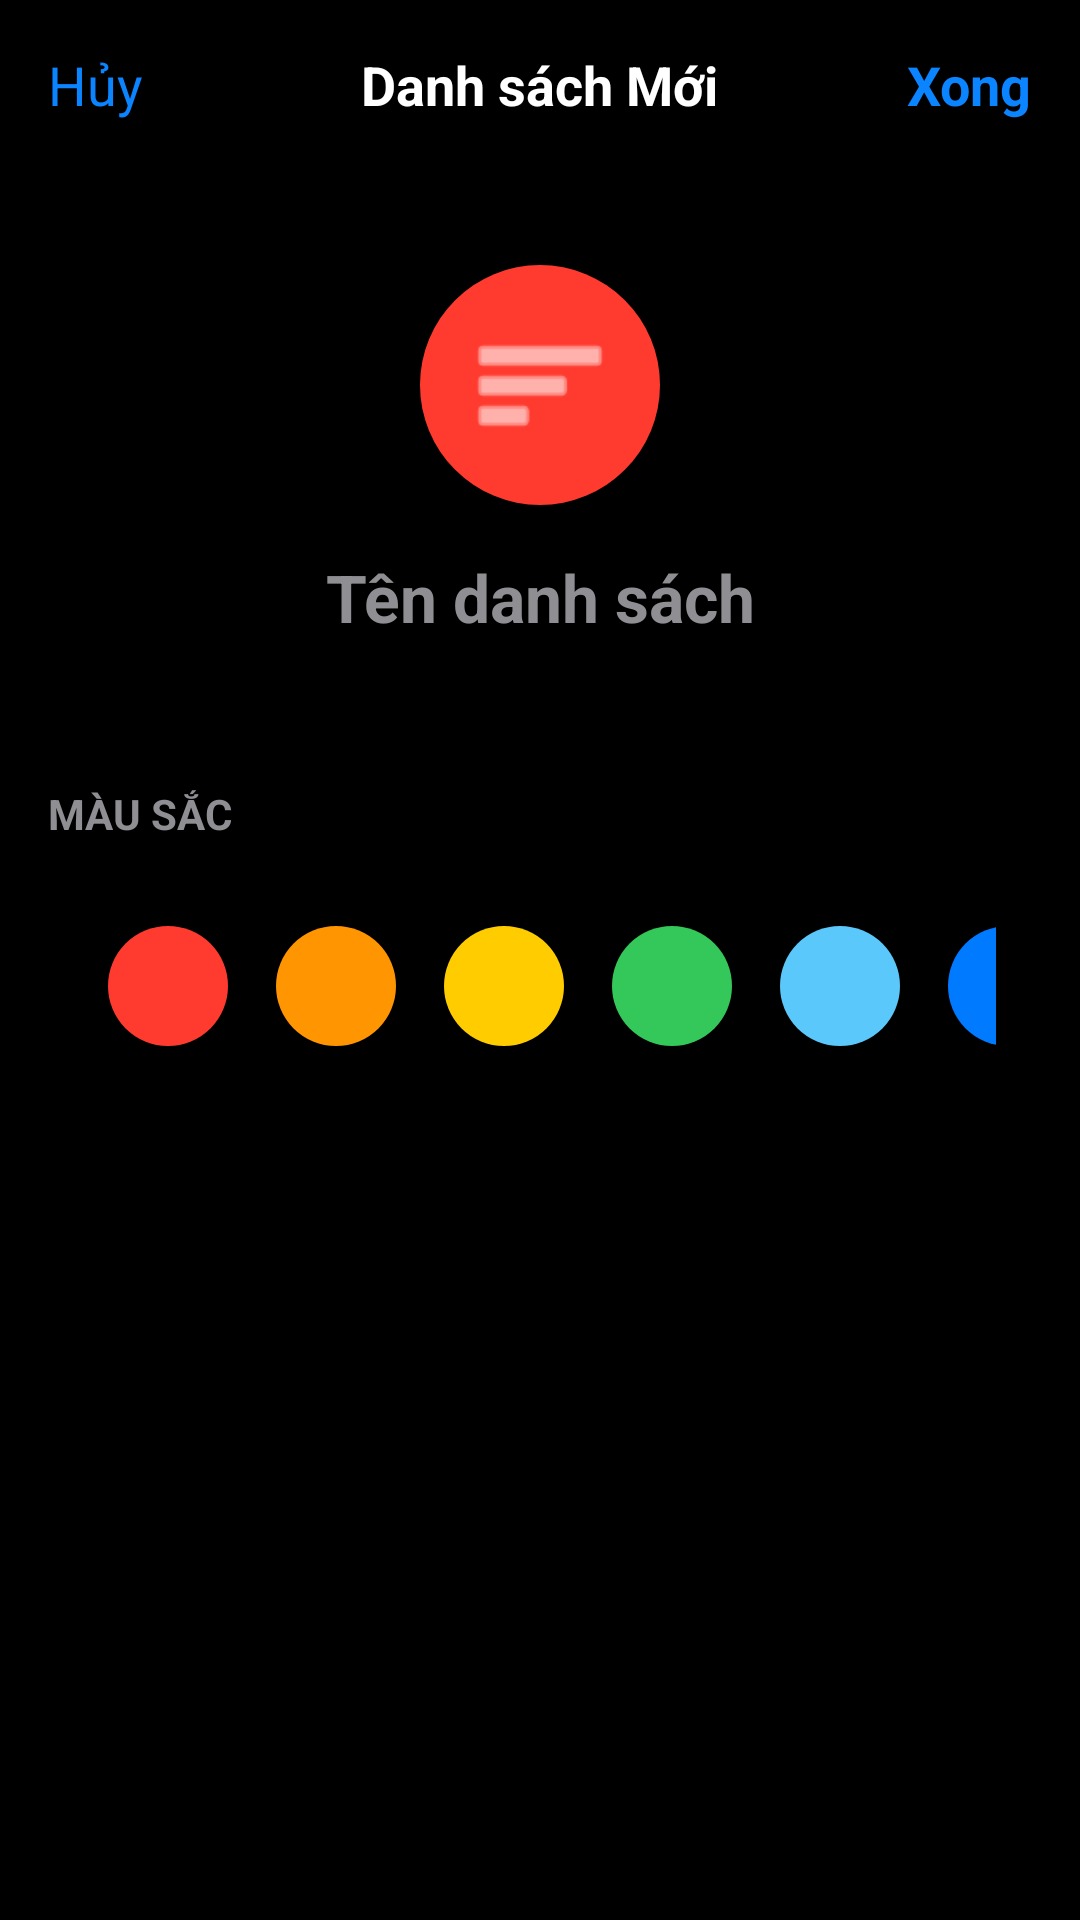

Screen size 1080*1920. Icon name, then its center in pixels as (x=x, y=y):
sort by size: (x=540, y=385)
